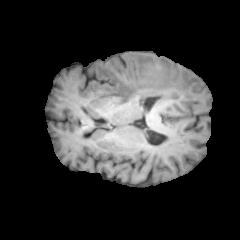glioma: (97, 53, 199, 104)
